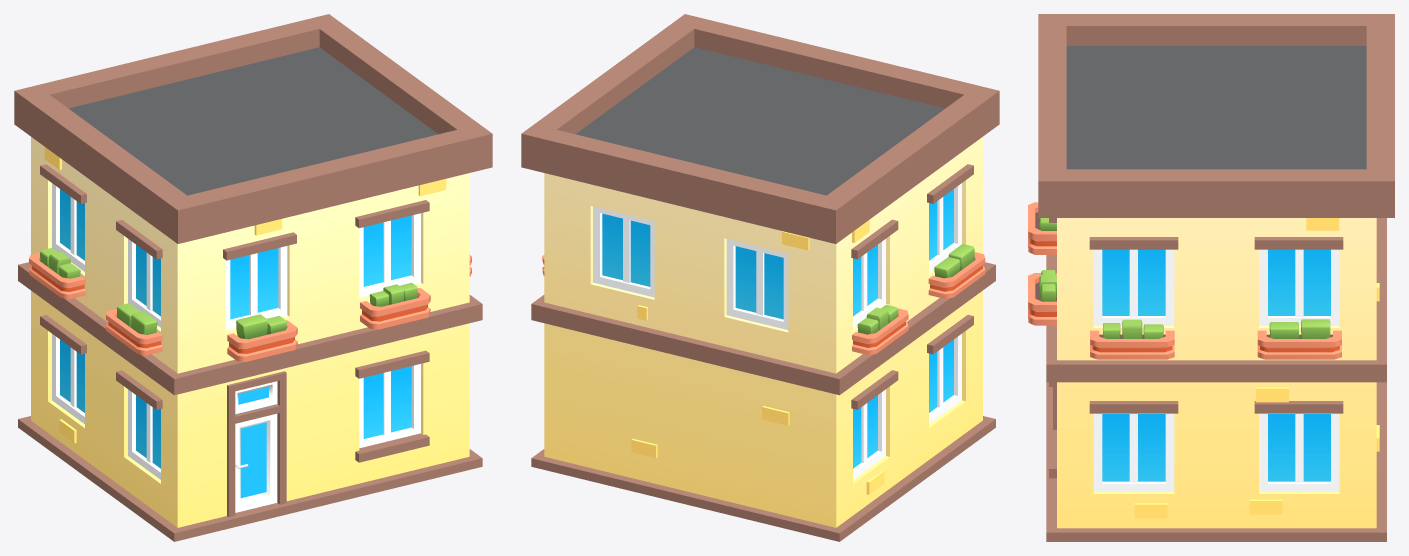
The model's file is city2-building-living-03.glb.
3 views of the same model, side by side, from view 1: azimuth 30°, elevation 25°; view 2: azimuth 150°, elevation 25°; view 3: azimuth 270°, elevation 25° (orthographic). The views are drawn at different scales.
Parts seen in each view (by area): view 1: Building_Living_03; view 2: Building_Living_03; view 3: Building_Living_03.
Boxes of the visible parts, <box> form: Building_Living_03: <box>14,14,492,541</box>; Building_Living_03: <box>521,14,999,541</box>; Building_Living_03: <box>1028,14,1394,541</box>.
Bounding box in the file's own units: 8.19 × 7.83 × 7.15.
Materials: 1 (1 with a texture image).
